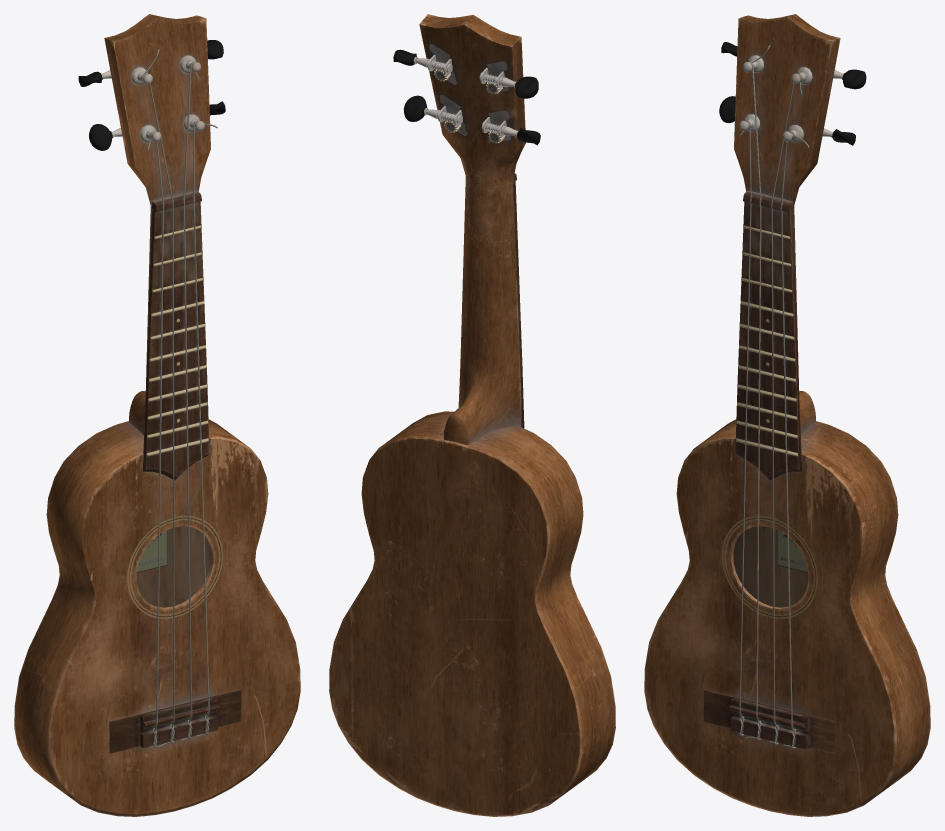
The model's file is Ukulele_01.glb.
3 renders of one model, left to right at view 1: azimuth 30°, elevation 25°; view 2: azimuth 150°, elevation 25°; view 3: azimuth 330°, elevation 25°, orthographic.
Parts seen in each view (by area): view 1: Ukulele_01; view 2: Ukulele_01; view 3: Ukulele_01.
Boxes of the visible parts, x1,y1,x2,y2 form: Ukulele_01: (14,14,300,816); Ukulele_01: (329,14,615,816); Ukulele_01: (644,14,930,816).
Bounding box in the file's own units: 0.1779 × 0.527 × 0.0508.
Materials: 1 (1 with a texture image).
